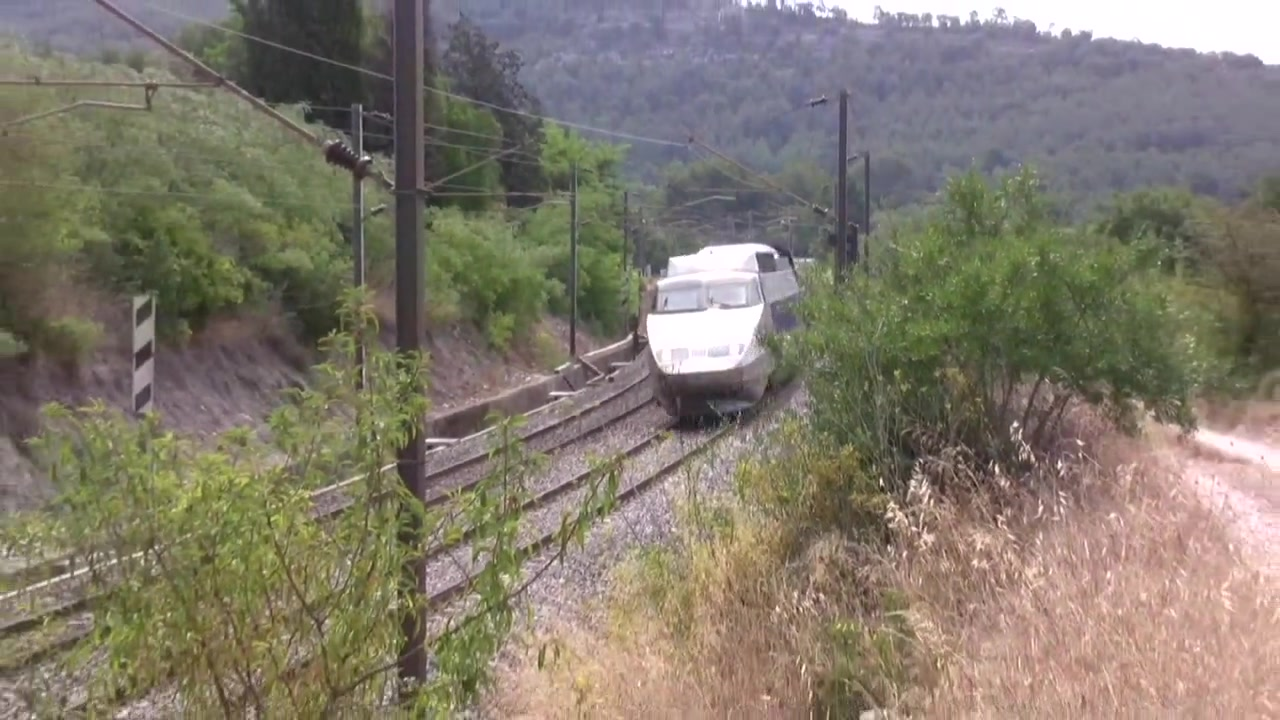train: (637, 240, 812, 426)
